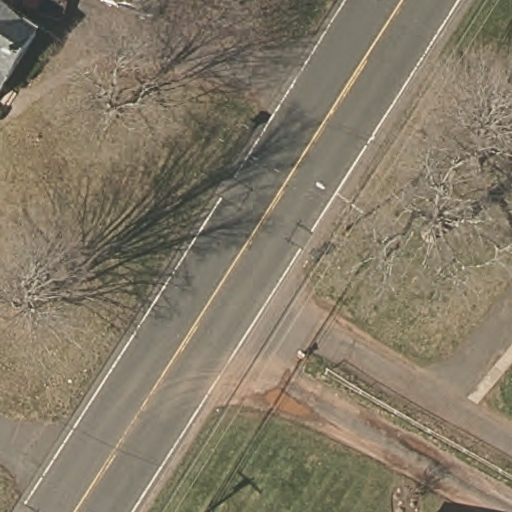DT: (320, 178, 373, 241)
